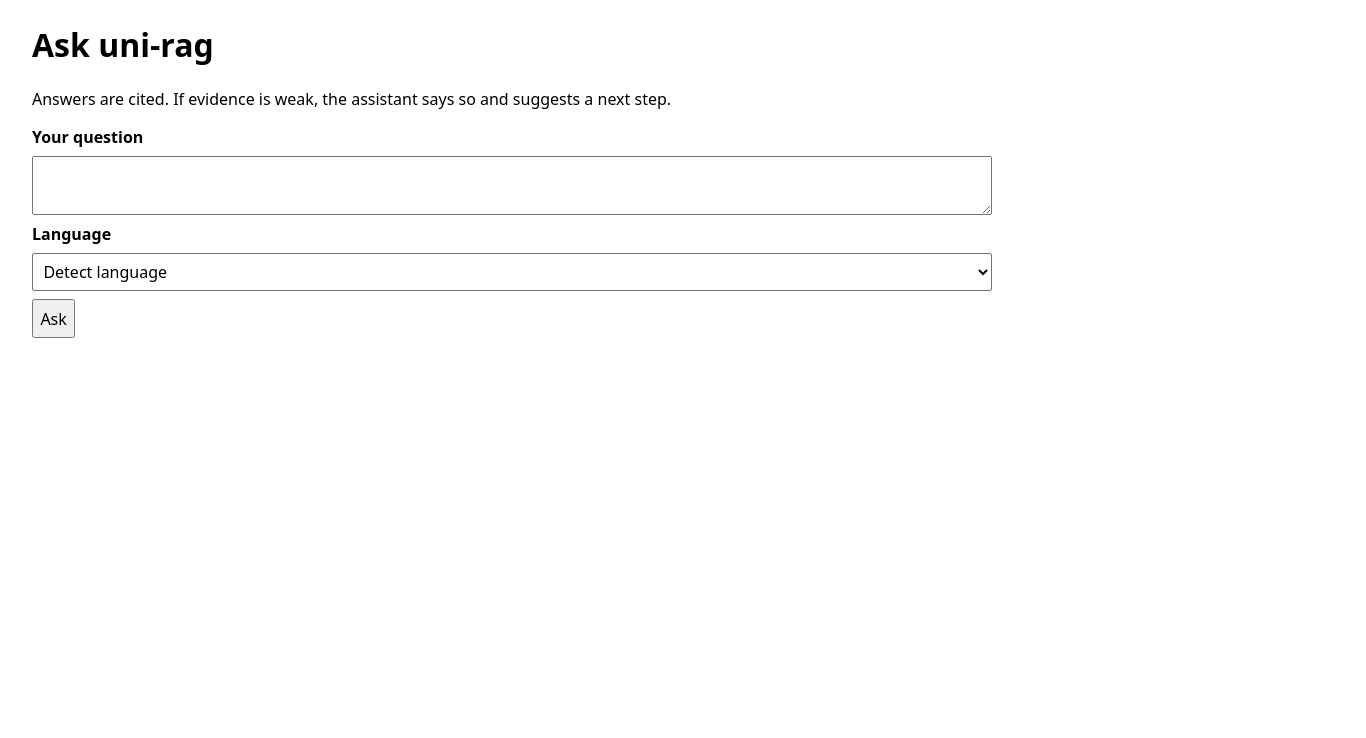
Scenario: ChatPage › keeps feedback retryable and shows the trace id when the API rejects it
The image size is (1366, 738).
Type "What is the fee?" into the text box labelled "Your question" at (512, 185), box x1=32 y1=156 x2=992 y2=215
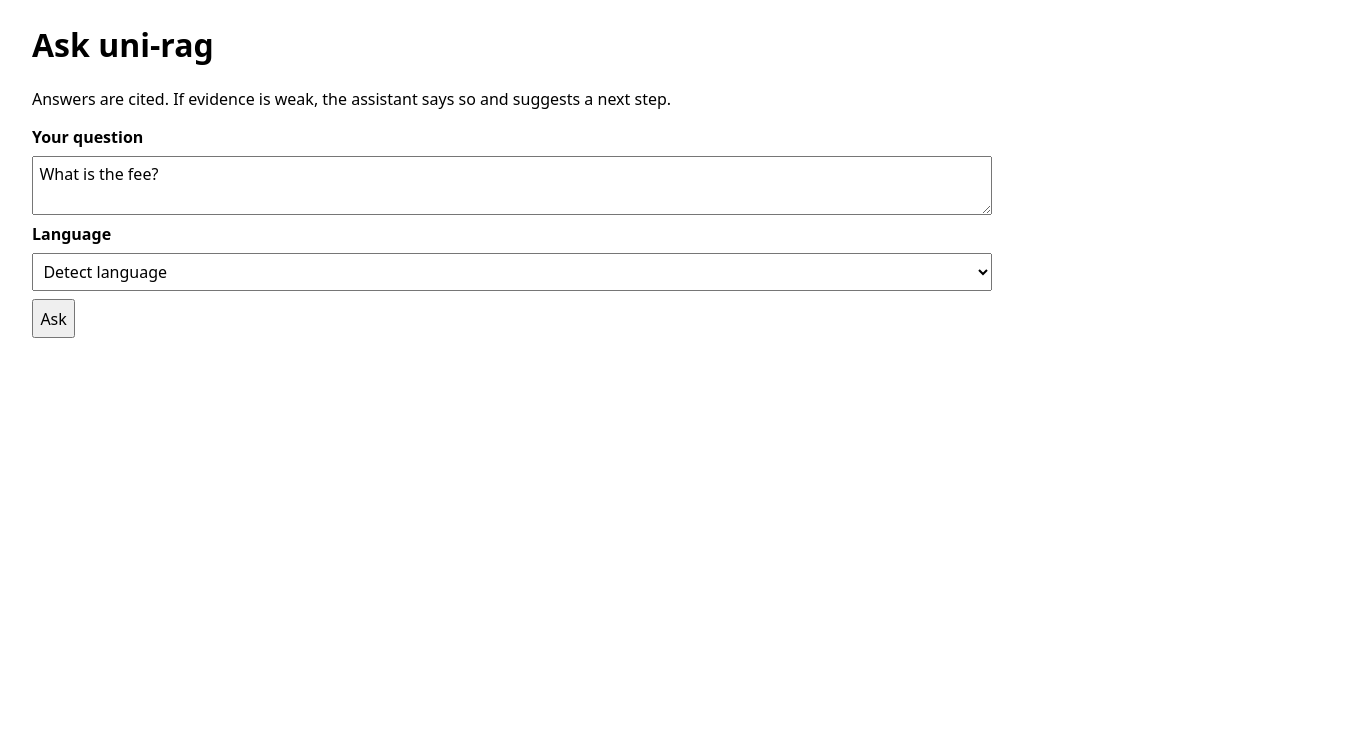
Click the button "Ask" at (54, 319), box x1=32 y1=299 x2=75 y2=338
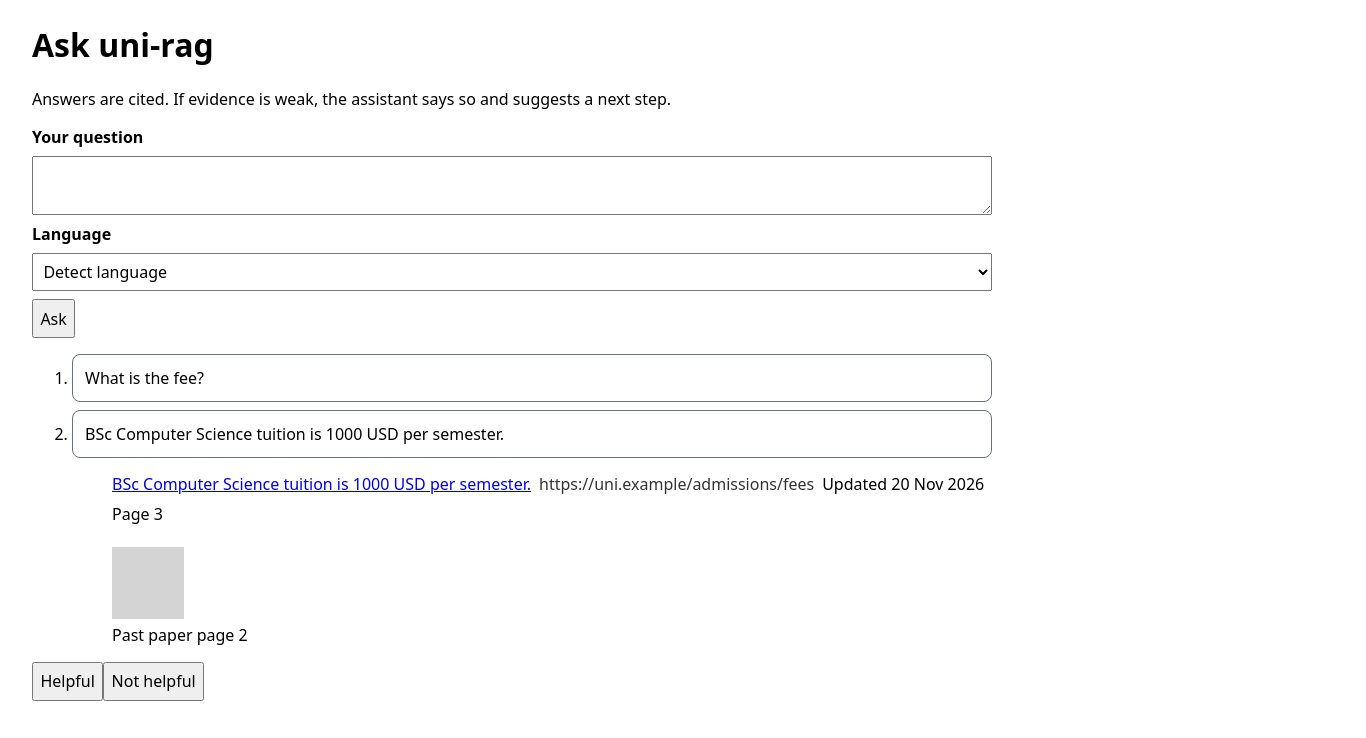
Click the button "Helpful" at (68, 681), box x1=32 y1=662 x2=103 y2=701
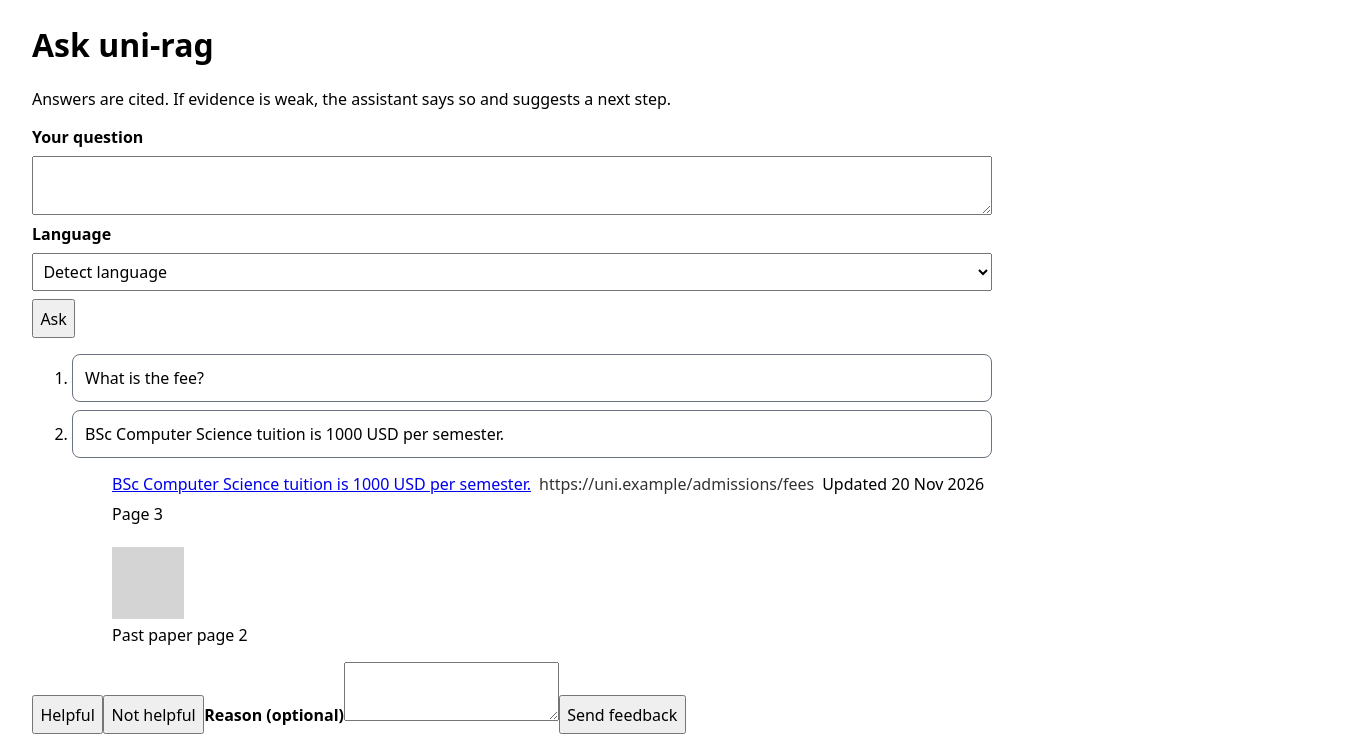
Click the button "Send feedback" at (622, 715), box x1=559 y1=695 x2=686 y2=734
(page scrolled)
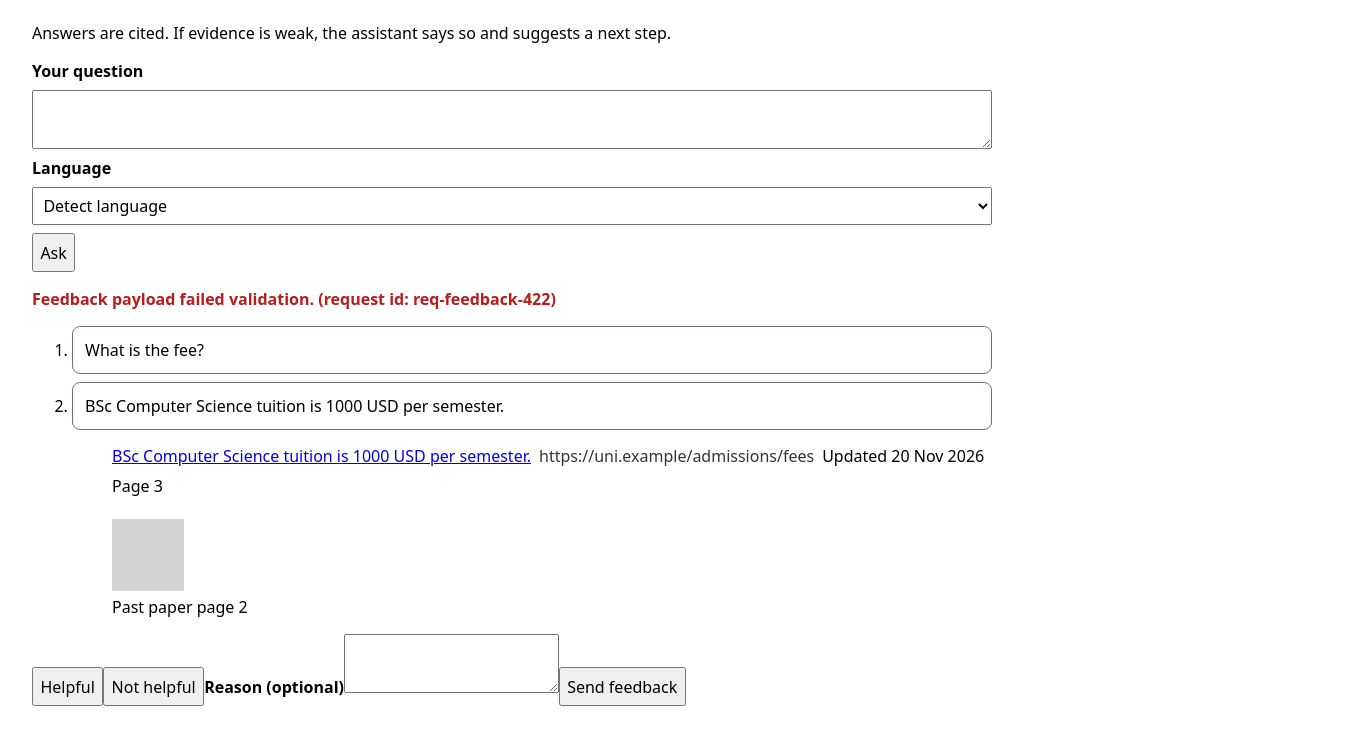
Now the button "Send feedback" is shown, box x1=559 y1=667 x2=686 y2=706
Now the message shows "req-feedback-422", box x1=413 y1=288 x2=550 y2=310
